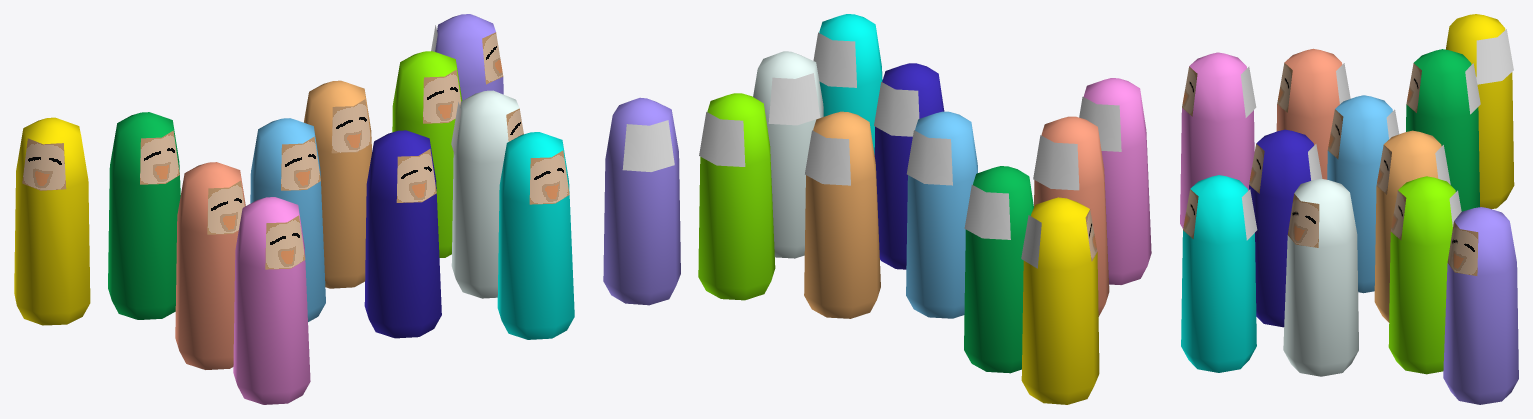
File: M_MOB4.glb
3 views of the same model, side by side, from view 1: azimuth 30°, elevation 25°; view 2: azimuth 150°, elevation 25°; view 3: azimuth 270°, elevation 25° (orthographic). The views are drawn at different scales.
Parts seen in each view (by area): view 1: ROT; view 2: ROT; view 3: ROT.
Boxes of the visible parts, box(x1,y1,x2,y2) form: ROT: box(14, 14, 574, 404); ROT: box(603, 14, 1151, 404); ROT: box(1180, 14, 1518, 404).
Size of the model in its own units: 9 by 3.4 by 5.72.
Materials: 3 (3 with a texture image).
